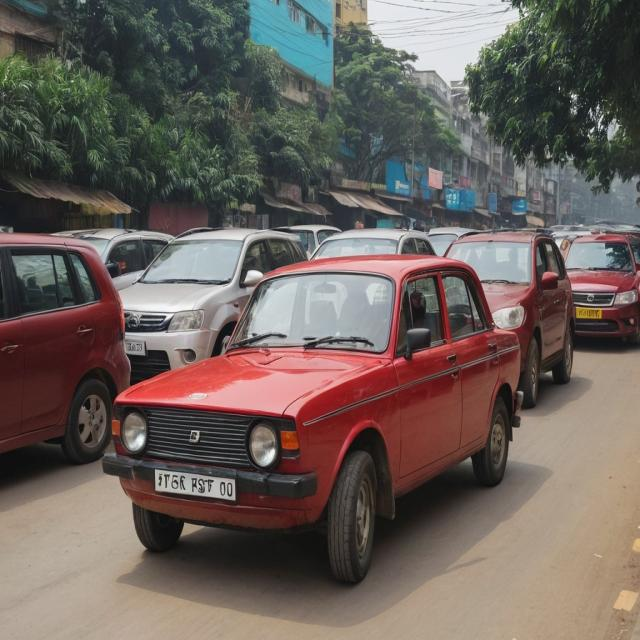red: (105, 248, 522, 560), (0, 216, 123, 475), (449, 229, 570, 406), (552, 228, 640, 347)
white: (125, 233, 318, 385)
